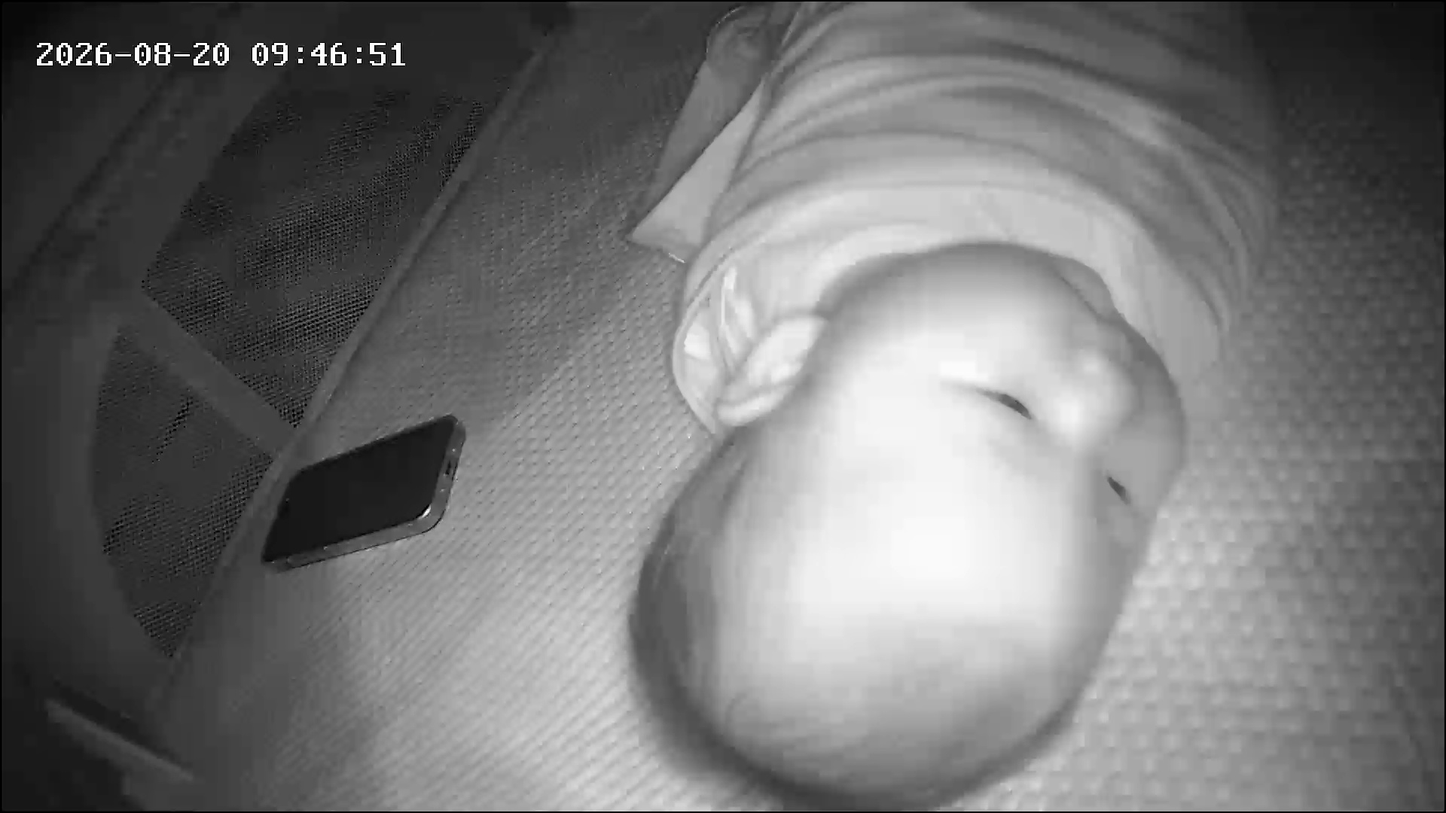baby: (621, 1, 1334, 807)
baby_face: (640, 243, 1199, 808)
